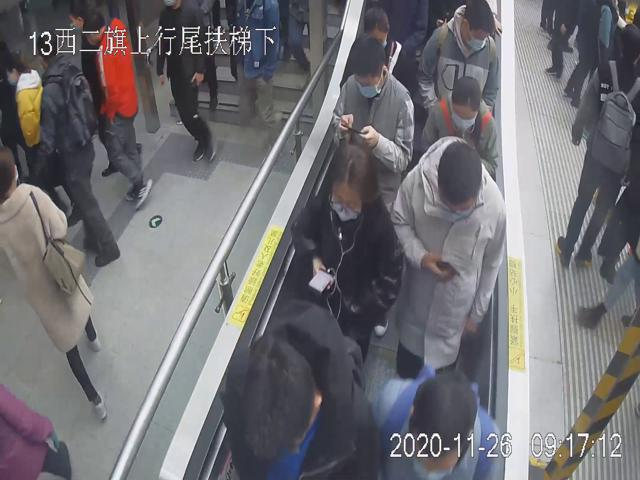person: (388, 129, 508, 381), (286, 134, 405, 370), (328, 32, 416, 206), (417, 0, 501, 112), (419, 71, 503, 178), (332, 4, 418, 88)
